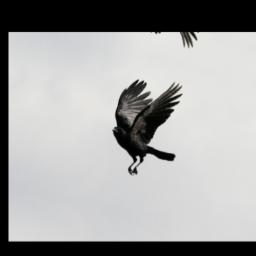Crow: (98, 69, 195, 187)
